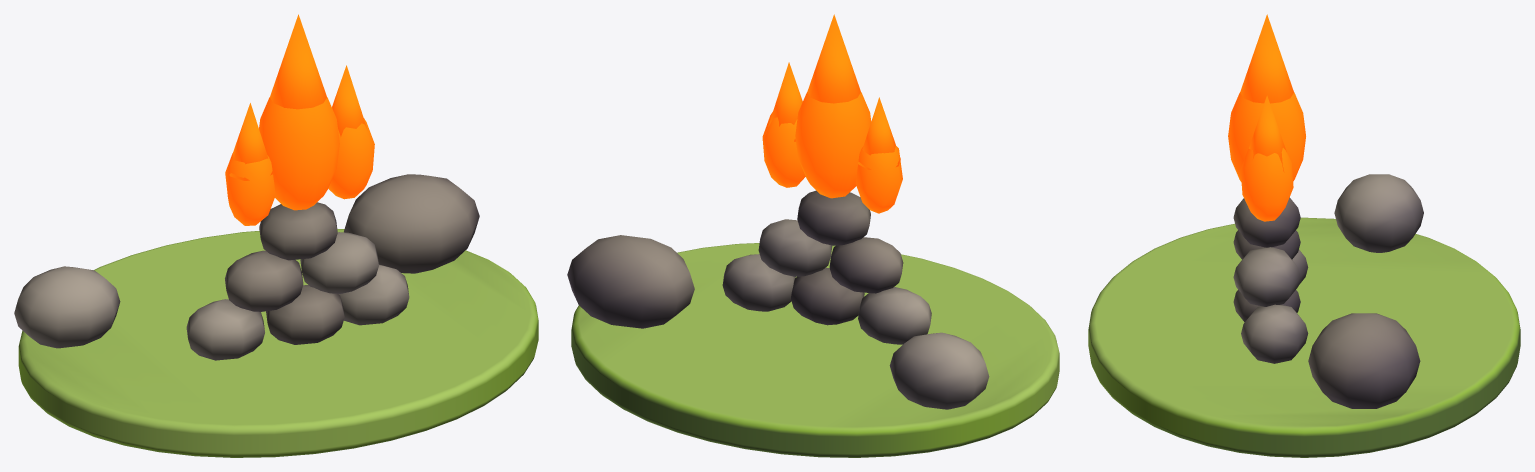
The model's file is carmel.glb.
The picture shows the model from 3 angles, left to right: view 1: azimuth 30°, elevation 25°; view 2: azimuth 150°, elevation 25°; view 3: azimuth 270°, elevation 25°; orthographic projection. The views are drawn at different scales.
Visible parts, largest first — view 1: carmel; view 2: carmel; view 3: carmel.
Part boxes in pixels (x1,y1,x2,y2): carmel: (14,14,538,457); carmel: (567,14,1059,457); carmel: (1088,14,1520,457).
Bounding box in the file's own units: 6.66 × 4.9 × 5.66.
